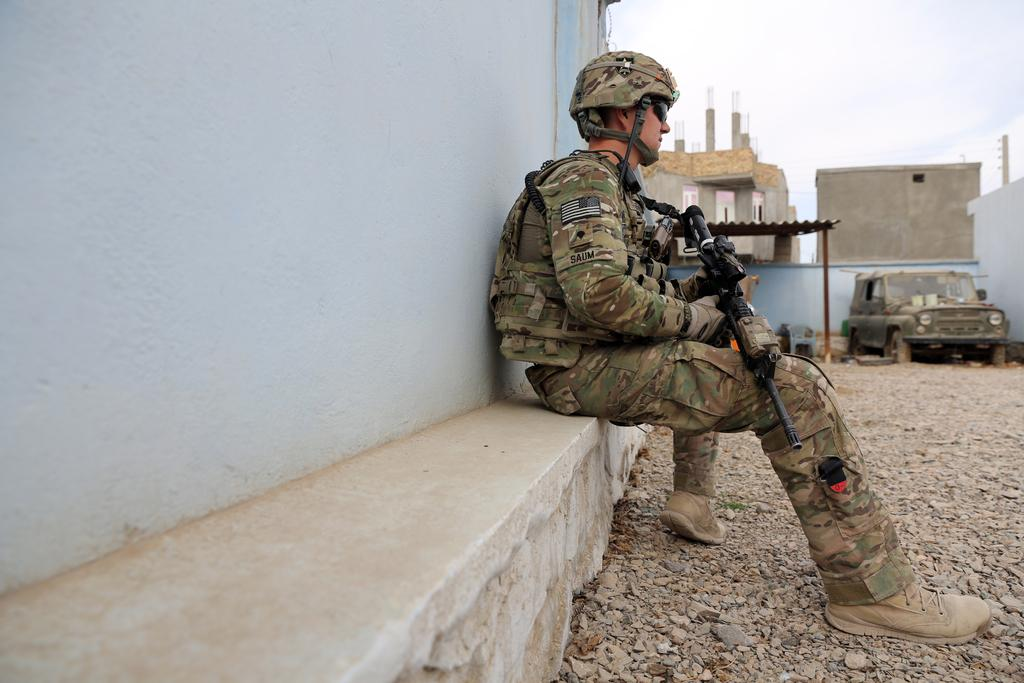Rifle: (671, 205, 808, 451)
